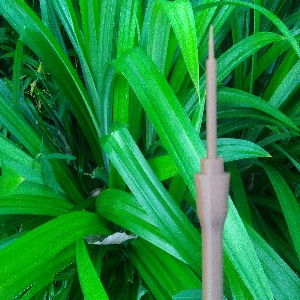solder: (192, 25, 231, 300)
